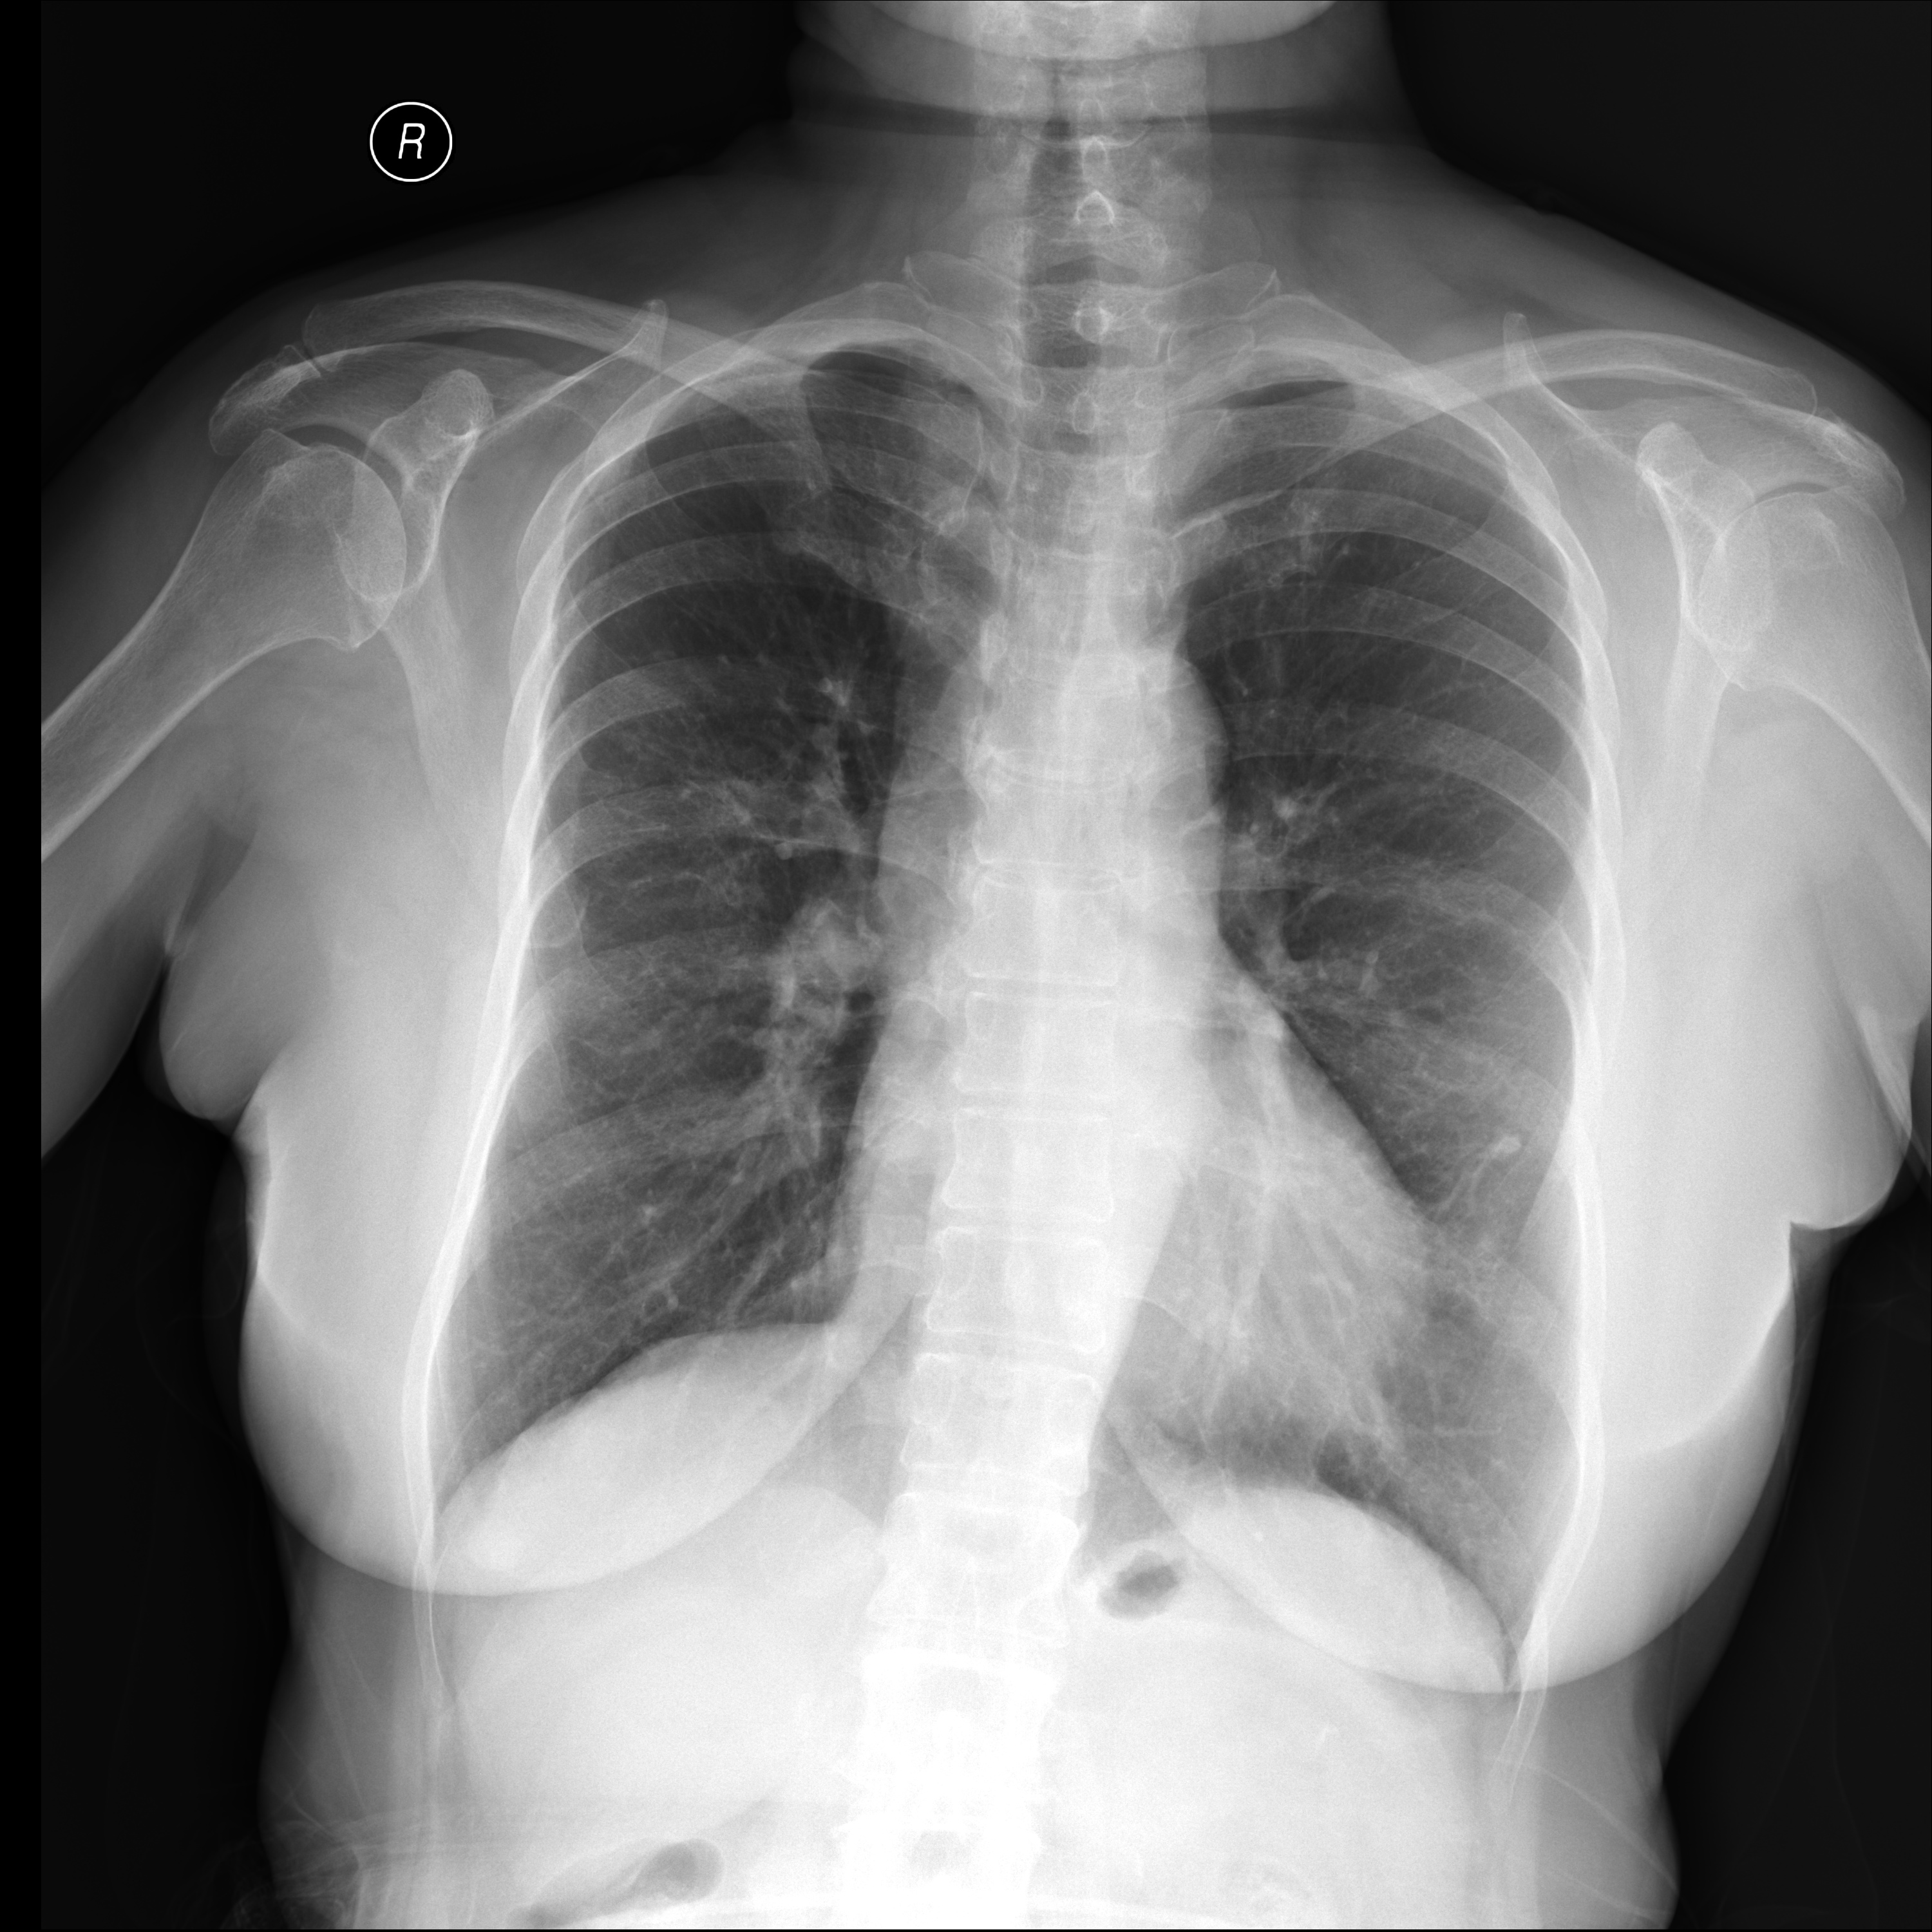nodule: (1454, 1097, 1553, 1203)
